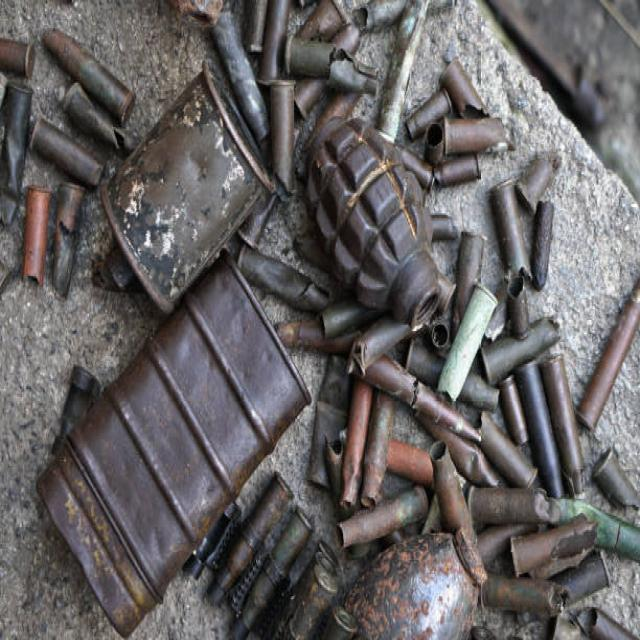grenade: (298, 103, 451, 346)
